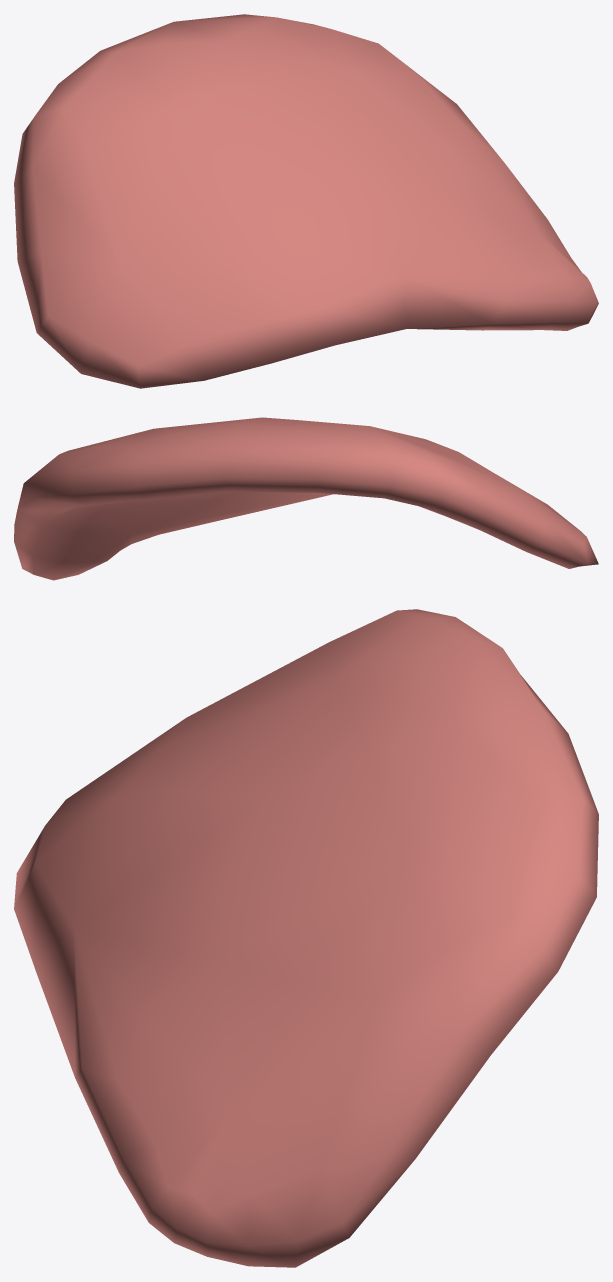
3 renders of one model, top to bottom at view 1: azimuth 30°, elevation 25°; view 2: azimuth 150°, elevation 25°; view 3: azimuth 270°, elevation 25°, orthographic. The views are drawn at different scales.
Visible parts, largest first — view 1: ZA_2826e5f801e790cc; view 2: ZA_2826e5f801e790cc; view 3: ZA_2826e5f801e790cc.
Boxes of the visible parts, x1,y1,x2,y2 form: ZA_2826e5f801e790cc: [14, 14, 598, 388]; ZA_2826e5f801e790cc: [14, 417, 598, 580]; ZA_2826e5f801e790cc: [14, 609, 598, 1267].
Bounding box in the file's own units: 0.00513 × 0.00252 × 0.00345.
